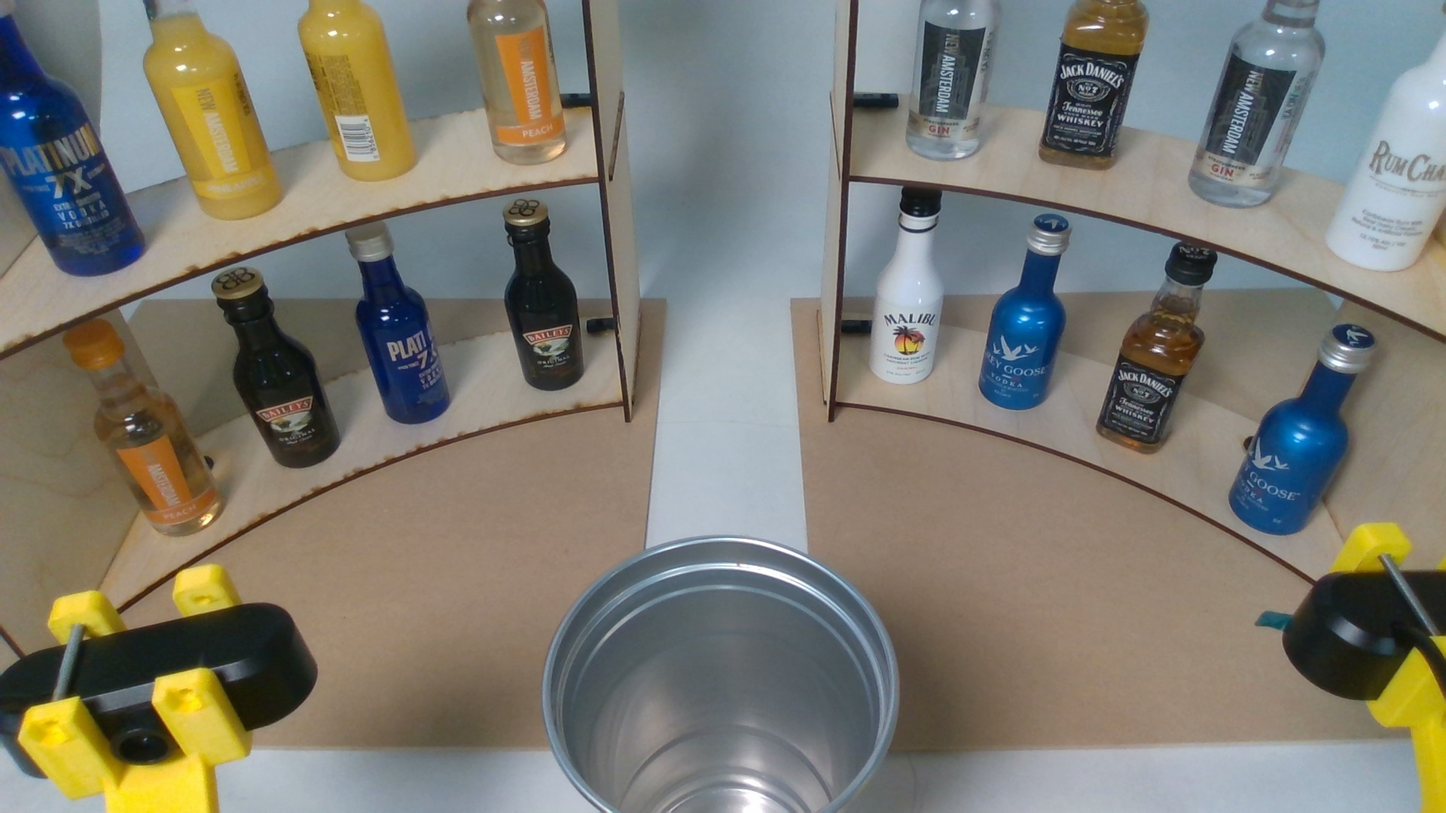coke: (212, 269, 343, 467), (499, 197, 585, 391)
gin: (1188, 0, 1328, 210), (905, 0, 1004, 165)
ginger_beer: (61, 318, 223, 533), (463, 0, 566, 162)
orange_juice: (142, 0, 285, 223), (297, 0, 416, 182)
tequila: (866, 184, 947, 382)
tonic_water: (0, 1, 147, 275), (342, 222, 451, 423)
vodka: (1230, 325, 1379, 536), (978, 213, 1071, 411)
whiskey: (1096, 241, 1217, 455), (1039, 0, 1148, 172)
